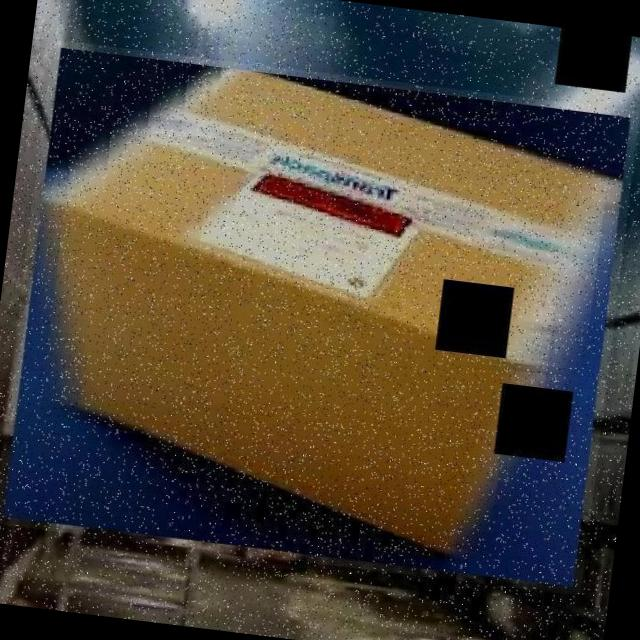box: (0, 39, 639, 596)
